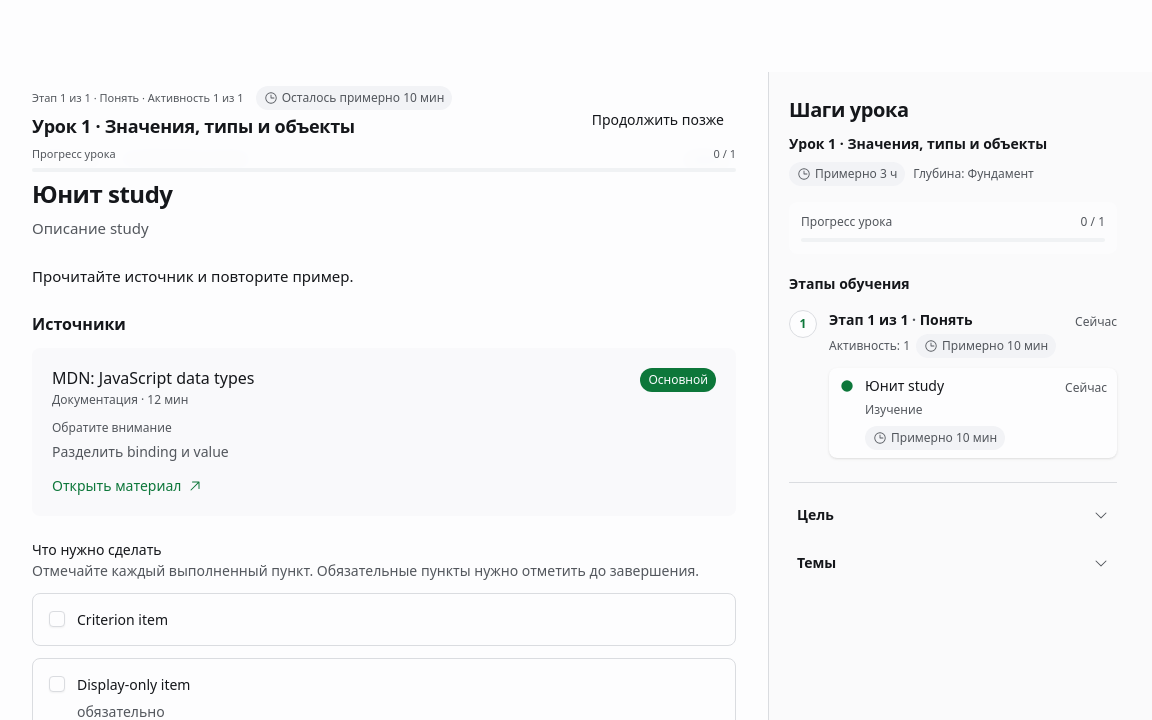
Test: guided versioned session › gates Study completion by the authored checklist criterion, not presentation flags
Click the checkbox named "Criterion item" next to "Criterion item" at (57, 619), box [49,611,65,627]
(page scrolled)
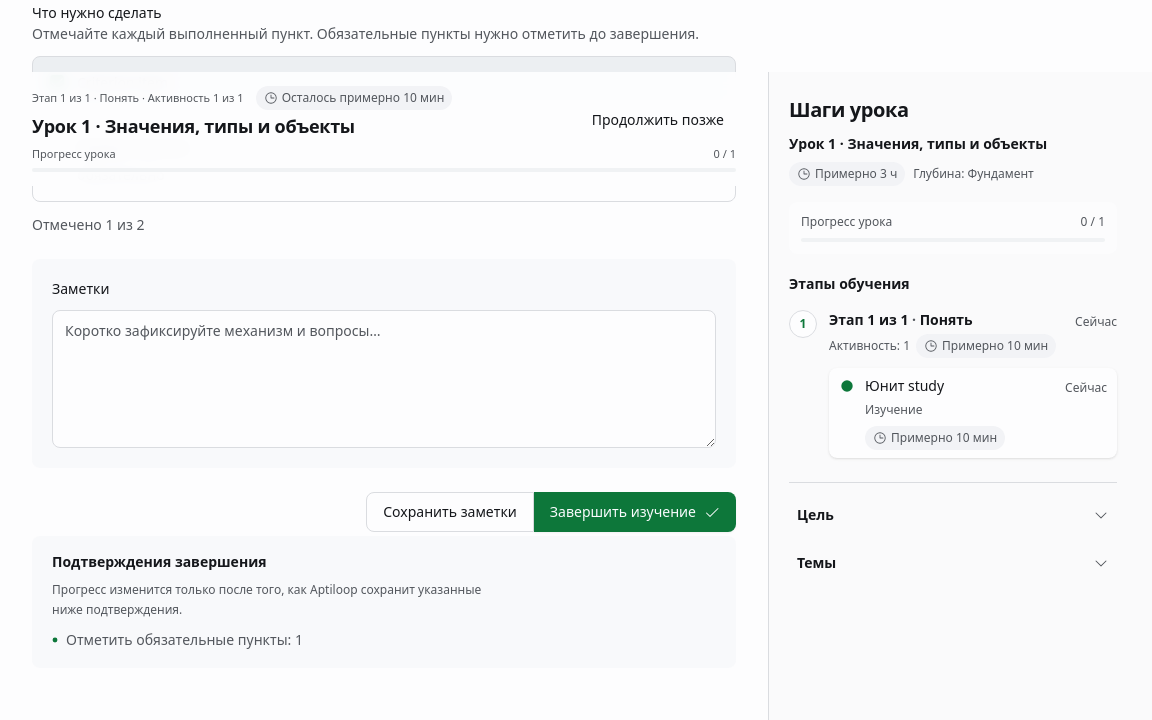
Check: the button "Завершить изучение" is enabled, box [534,492,736,532]
